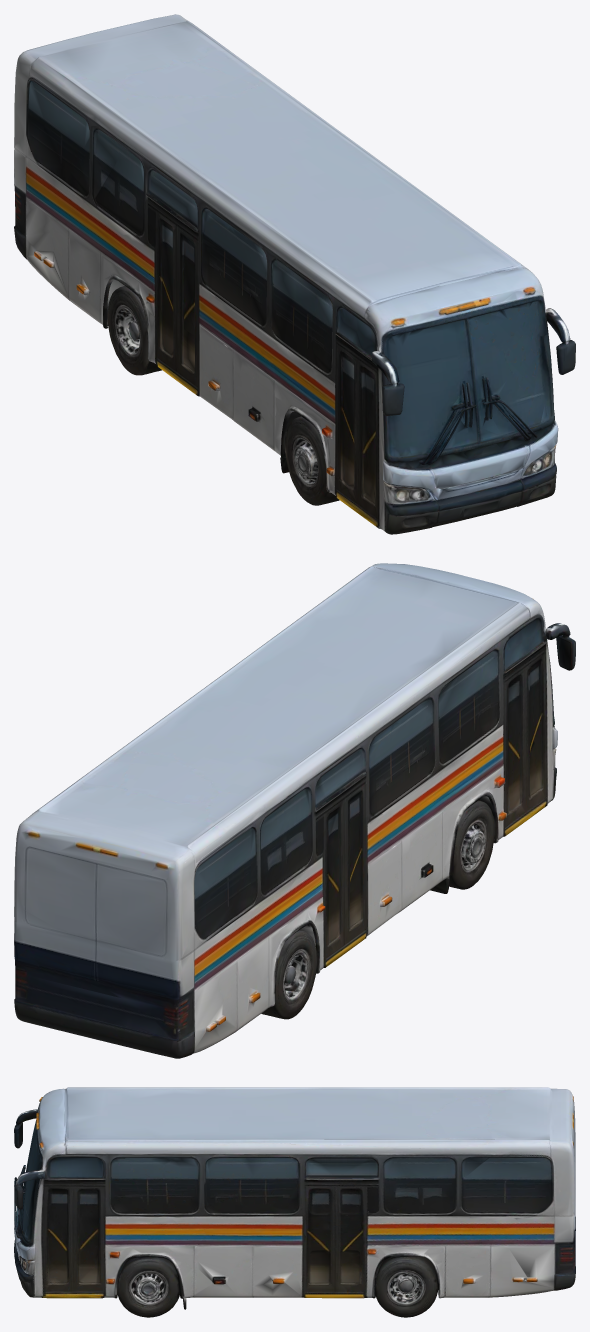
File: car-bus-v2.glb
The picture shows the model from 3 angles, top to bottom: view 1: azimuth 30°, elevation 25°; view 2: azimuth 150°, elevation 25°; view 3: azimuth 270°, elevation 25°; orthographic projection. The views are drawn at different scales.
Visible parts, largest first — view 1: node_0; view 2: node_0; view 3: node_0.
Boxes of the visible parts, x1,y1,x2,y2 form: node_0: (14,14,575,534); node_0: (14,563,575,1058); node_0: (14,1087,575,1317).
Bounding box in the file's own units: 0.324 × 0.3901 × 1.13.
Materials: 1 (1 with a texture image).
